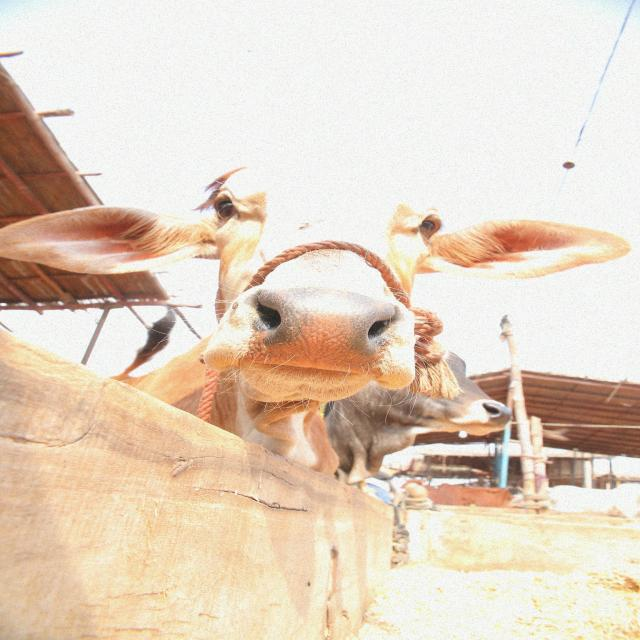muzzles: (226, 280, 407, 385)
